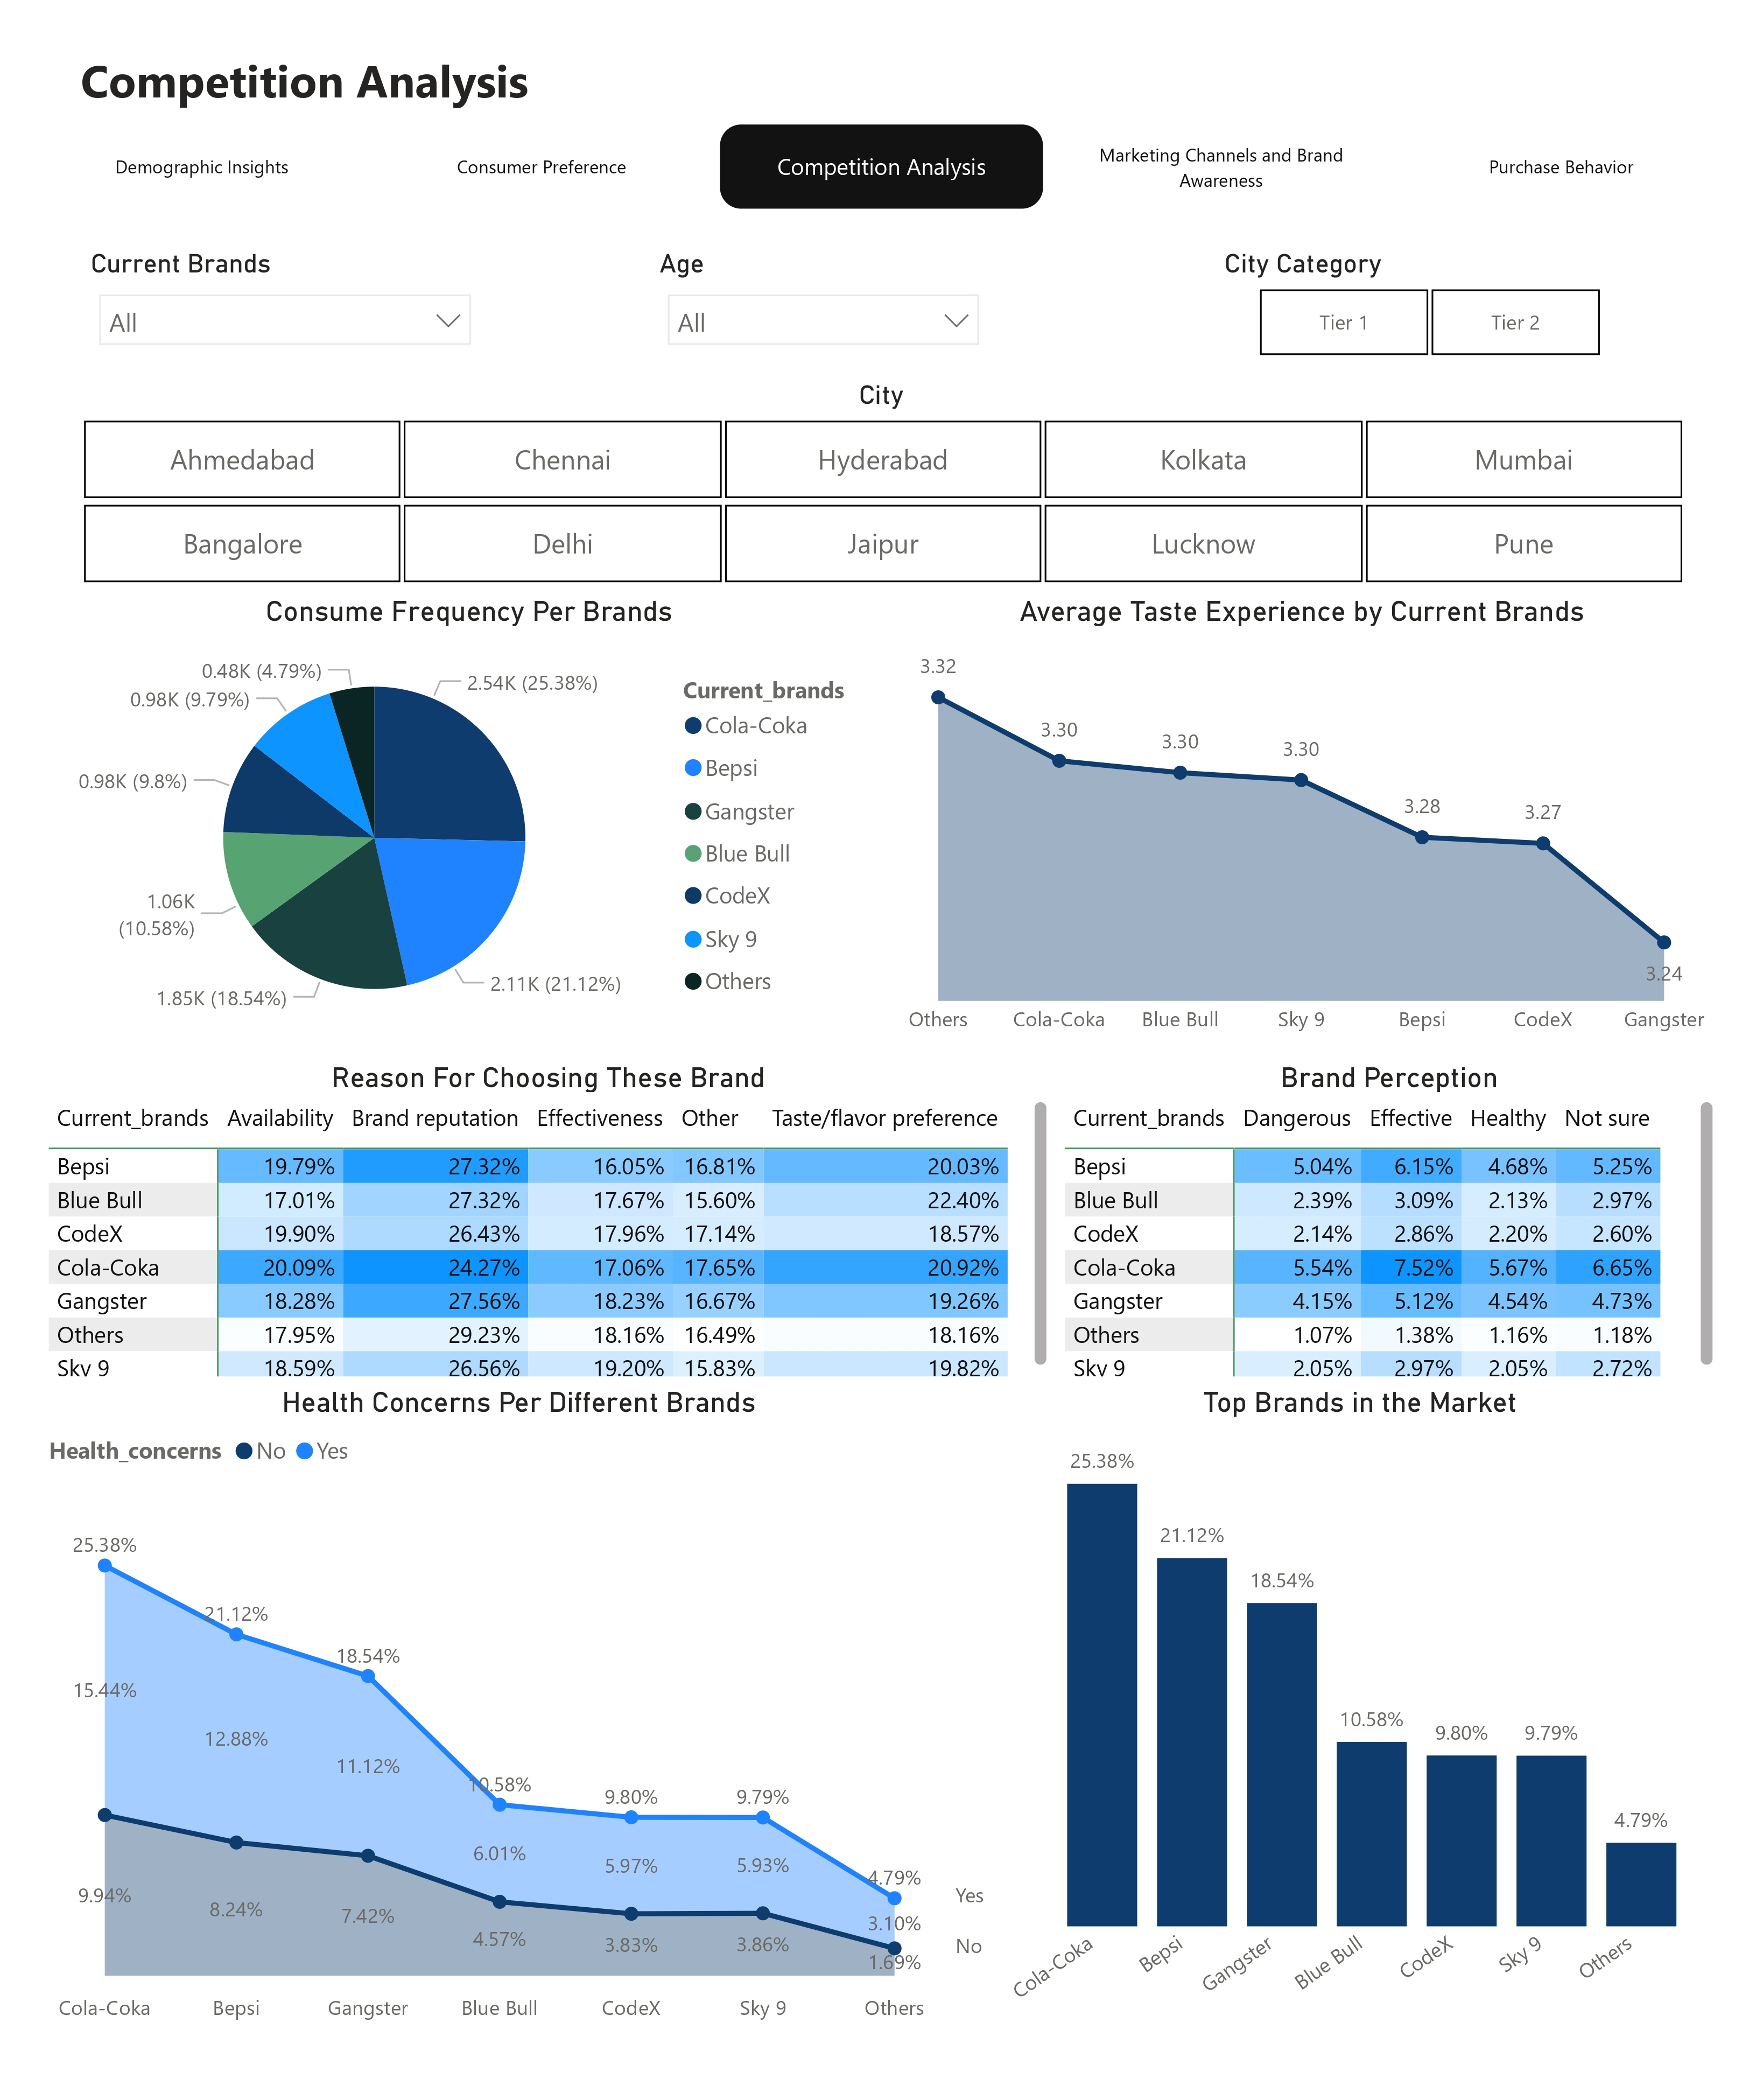

The dashboard page shown, as its layout file describes it:
{"tool":"powerbi","page":{"name":"Competition Analysis","canvas":[1000,1200],"ordinal":2},"visuals":[{"type":"textbox","box":[10,0,293.8,75],"z":0},{"type":"slicer","title":"Current Brands ","fields":{"Values":["fact_survey_responses.Current_brands"]},"box":[25,122.5,241.2,71.2],"z":1000},{"type":"slicer","title":"City Category ","fields":{"Values":["dim_cities.Tier"]},"box":[698.8,122.5,252.5,71.2],"z":2000},{"type":"slicer","title":"Age ","fields":{"Values":["dim_repondents.Age"]},"box":[362.5,122.5,205,71.2],"z":3000},{"type":"slicer","title":"City","fields":{"Values":["dim_cities.City"]},"box":[0,201.2,1000,127.5],"z":4000},{"type":"pageNavigator","box":[0,50,1000,50],"z":5000},{"type":"columnChart","title":"Top Brands in the Market","fields":{"Category":["fact_survey_responses.Current_brands"],"Y":["CountNonNull(dim_repondents.Respondent_ID)"]},"box":[568.6,798.6,431.4,388.6],"z":6000},{"type":"pivotTable","title":"Reason For Choosing These Brand","fields":{"Rows":["fact_survey_responses.Current_brands"],"Columns":["fact_survey_responses.Reasons_for_choosing_brands"],"Values":["CountNonNull(fact_survey_responses.Respondent_ID)"]},"box":[0,605.7,604.3,192.9],"z":7000},{"type":"stackedAreaChart","title":"Health Concerns Per  Different Brands","fields":{"Category":["fact_survey_responses.Current_brands"],"Y":["Divide(CountNonNull(dim_repondents.Respondent_ID), ScopedEval(CountNonNull(dim_repondents.Respondent_ID), []))"],"Series":["fact_survey_responses.Health_concerns"]},"box":[0,798.6,568.6,388.6],"z":8000},{"type":"areaChart","title":"Average Taste Experience by Current Brands","fields":{"Category":["fact_survey_responses.Current_brands"],"Y":["Avg(fact_survey_responses.Taste_experience)"]},"box":[500,328.6,500,271.4],"z":9000},{"type":"pivotTable","title":"Brand Perception","fields":{"Values":["CountNonNull(dim_repondents.Respondent_ID)"],"Rows":["fact_survey_responses.Current_brands"],"Columns":["fact_survey_responses.General_perception"]},"box":[604.3,605.7,395.7,192.9],"z":10000},{"type":"pieChart","title":"Consume Frequency Per Brands","fields":{"Y":["CountNonNull(fact_survey_responses.Consume_frequency)"],"Category":["fact_survey_responses.Current_brands"]},"box":[10,328.6,490,271.4],"z":11000}]}

Visuals, with their boxes in screenshot pixels (x1, y1, x2, y2):
textbox: 57,40,551,166
"Current Brands " slicer: 82,247,488,366
"City Category " slicer: 1216,247,1641,366
"Age " slicer: 650,247,995,366
"City" slicer: 40,379,1723,593
pageNavigator: 40,124,1723,209
"Top Brands in the Market" columnChart: 997,1384,1723,2038
"Reason For Choosing These Brand" pivotTable: 40,1060,1057,1384
"Health Concerns Per  Different Brands" stackedAreaChart: 40,1384,997,2038
"Average Taste Experience by Current Brands" areaChart: 882,593,1723,1050
"Brand Perception" pivotTable: 1057,1060,1723,1384
"Consume Frequency Per Brands" pieChart: 57,593,882,1050
